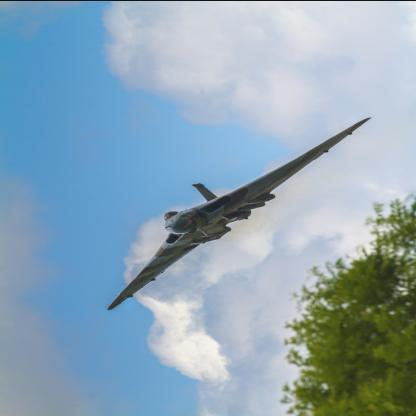aircraft: (104, 116, 374, 312)
